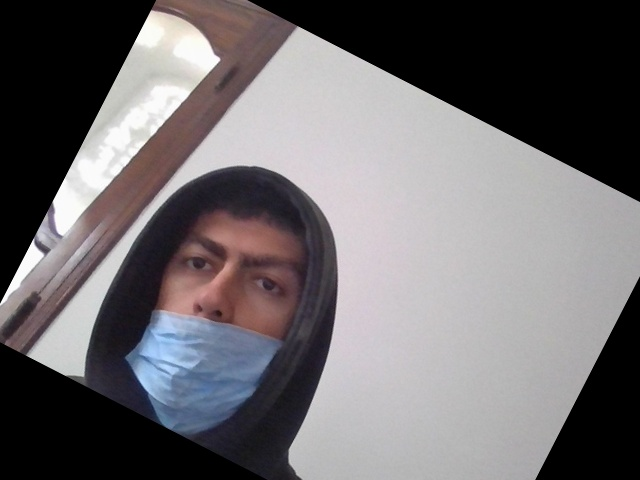mask_weared_incorrect: (130, 199, 318, 448)
